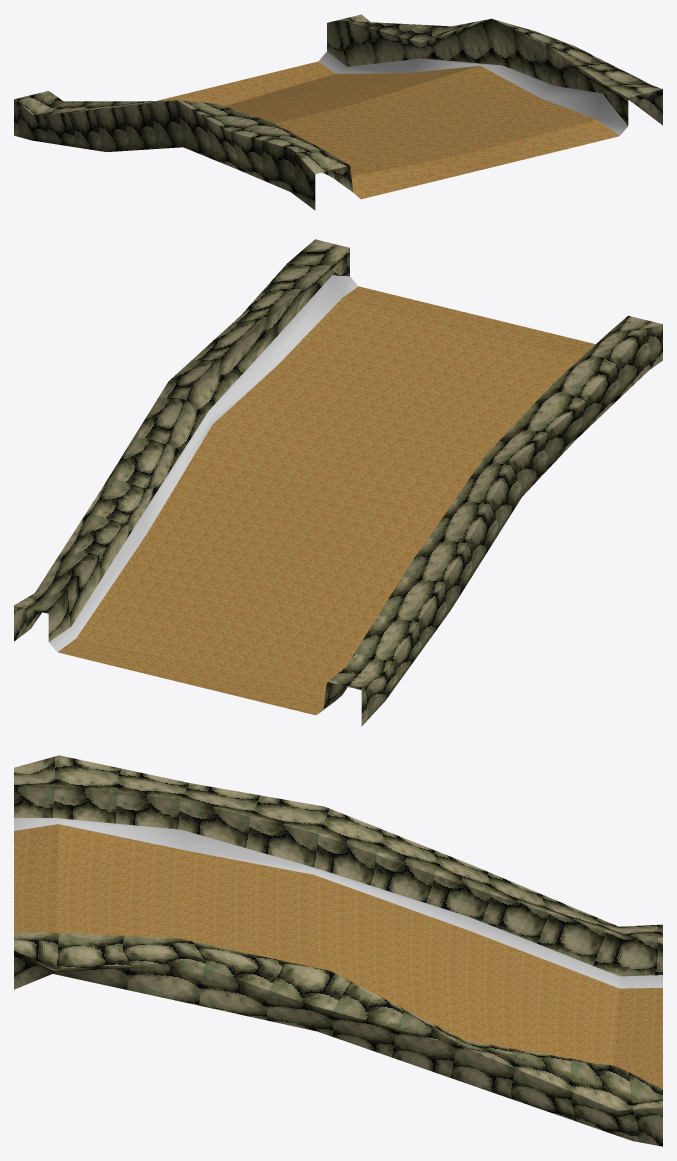
The picture shows the model from 3 angles, top to bottom: view 1: azimuth 30°, elevation 25°; view 2: azimuth 150°, elevation 25°; view 3: azimuth 270°, elevation 25°; orthographic projection. The views are drawn at different scales.
Parts seen in each view (by area): view 1: tv_t0b0e0v3; view 2: tv_t0b0e0v3; view 3: tv_t0b0e0v3.
Boxes of the visible parts, x1,y1,x2,y2 form: tv_t0b0e0v3: [14, 14, 662, 210]; tv_t0b0e0v3: [14, 239, 662, 726]; tv_t0b0e0v3: [14, 755, 662, 1146].
Size of what is drawn, in the model's own units: 10.46 by 15 by 5.31.
